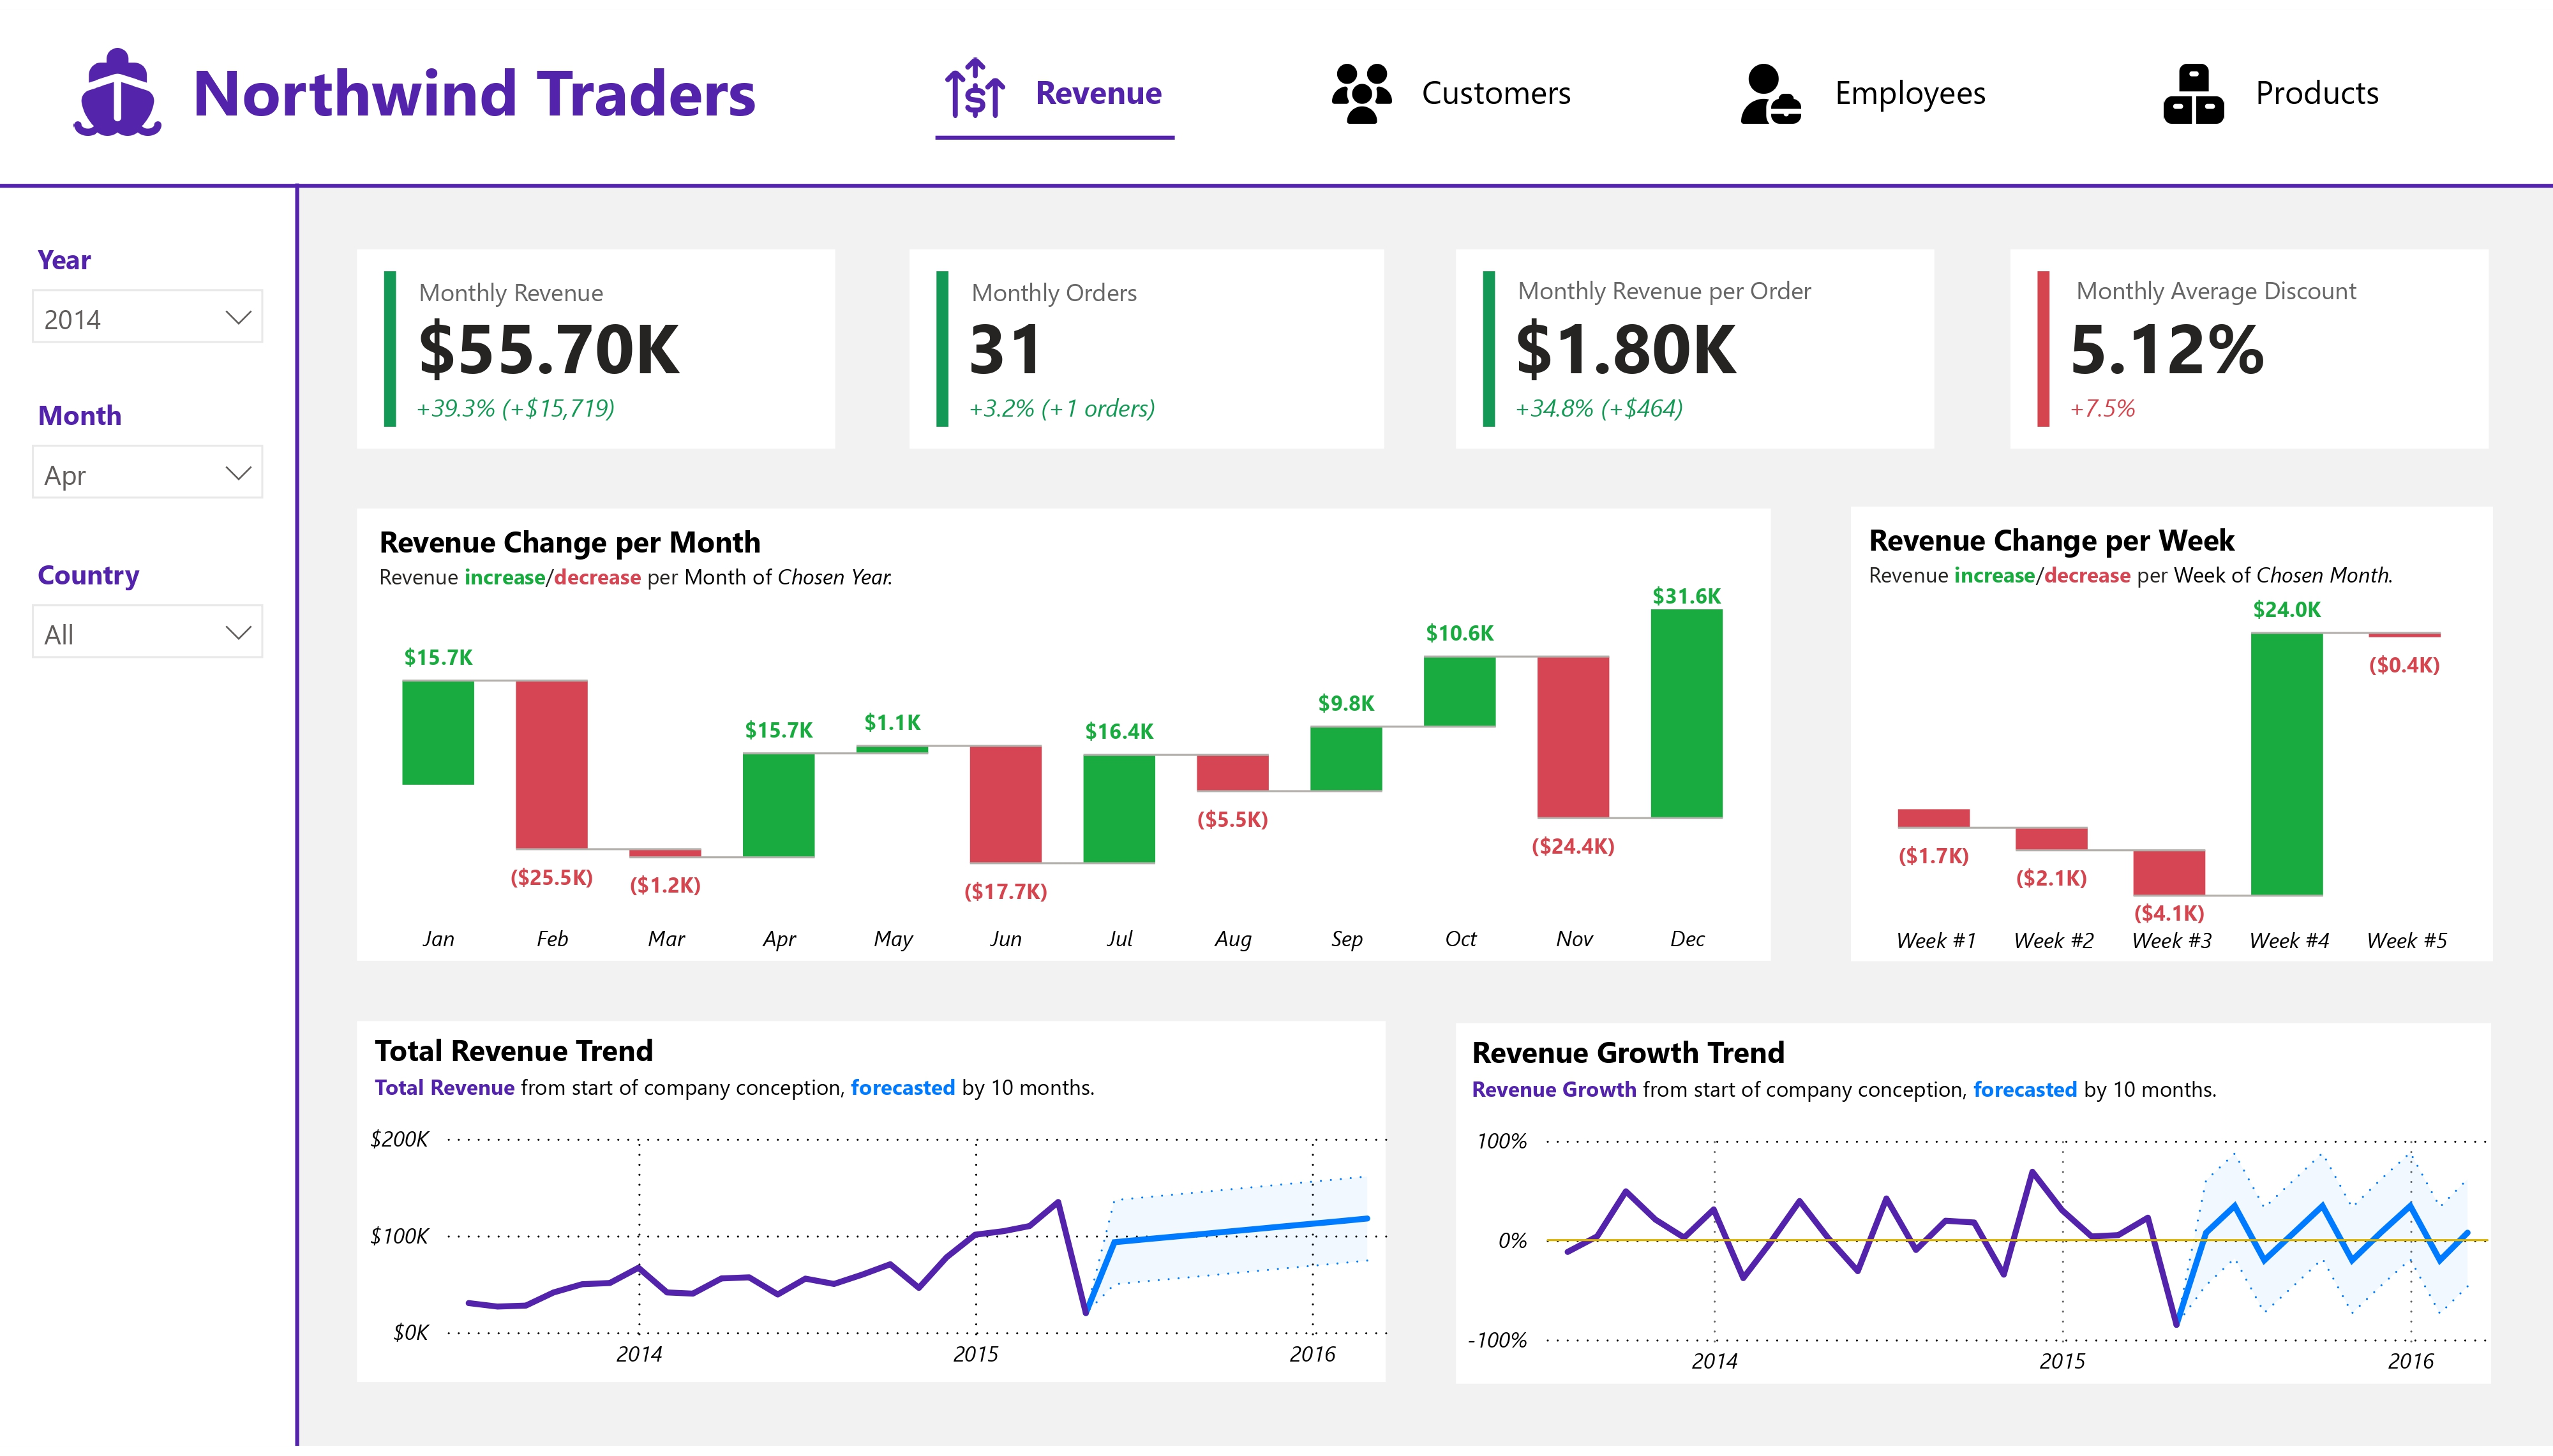

Layout of this report page (visuals, bound fields, positions):
{"tool":"powerbi","page":{"name":"Revenue","canvas":[1280,720],"ordinal":0},"visuals":[{"type":"textbox","box":[90,9.1,310,53.3],"z":0},{"type":"image","box":[468.7,13.3,40,40],"z":1000},{"type":"textbox","box":[514,18.9,97.1,34.3],"z":2000},{"type":"image","box":[663.3,16.2,40,40],"z":3000},{"type":"image","box":[868.1,16,40,40],"z":4000},{"type":"image","box":[1079.9,16,40,40],"z":5000},{"type":"textbox","box":[708,19.2,97.1,34.1],"z":6000},{"type":"textbox","box":[915.2,18.9,97.1,34.1],"z":7000},{"type":"textbox","box":[1126.1,18.9,96.9,33.8],"z":8000},{"type":"shape","box":[468.8,51.6,120,12.1],"z":9000},{"type":"image","box":[32.2,11.1,54.4,54.4],"z":10000}]}

Visuals, with their boxes in screenshot pixels (x1, y1, x2, y2), scaled from the page's 1280x720 canvas onto the 2553x1456 screenshot:
textbox: rect(179, 19, 798, 126)
image: rect(935, 27, 1015, 108)
textbox: rect(1025, 38, 1219, 108)
image: rect(1323, 33, 1403, 114)
image: rect(1732, 33, 1811, 113)
image: rect(2154, 33, 2234, 113)
textbox: rect(1412, 39, 1606, 108)
textbox: rect(1825, 38, 2019, 107)
textbox: rect(2246, 38, 2439, 107)
shape: rect(935, 105, 1174, 129)
image: rect(64, 22, 173, 133)
